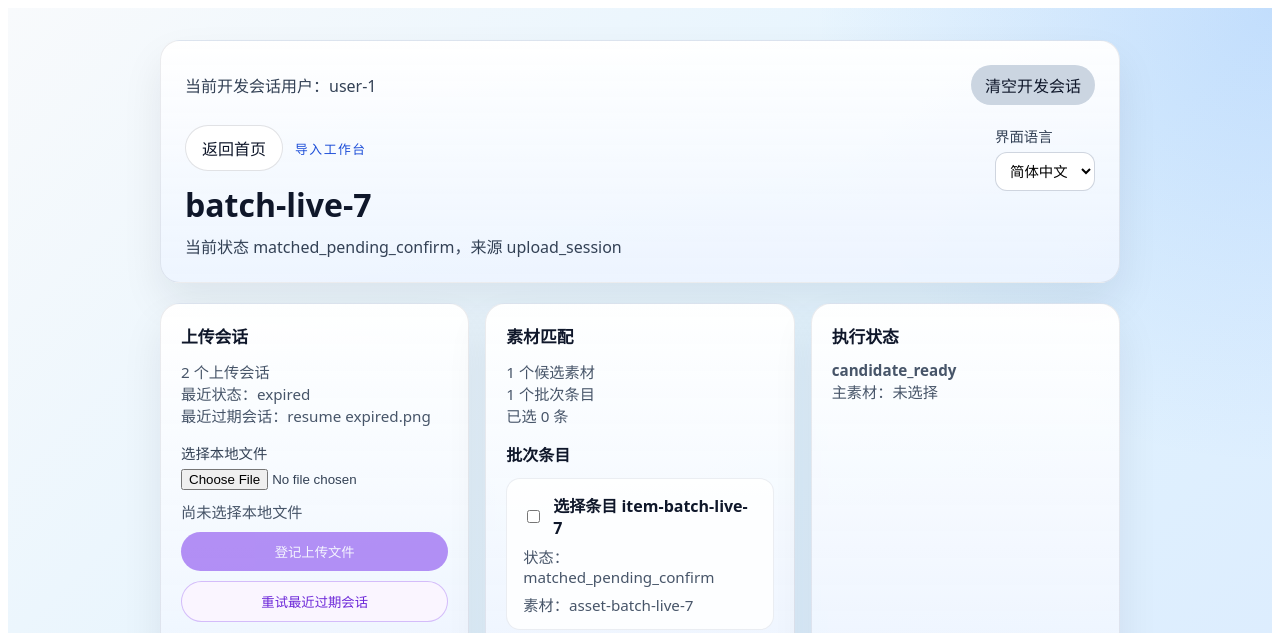
Test: App › retries the latest expired upload session and refreshes the import workbench
The width and height of the screenshot is (1280, 633).
Expected: the heading "batch-live-7" is shown, [185,183,372,226]
Click the button "重试最近过期会话": [315, 602] box [181,581,448,622]
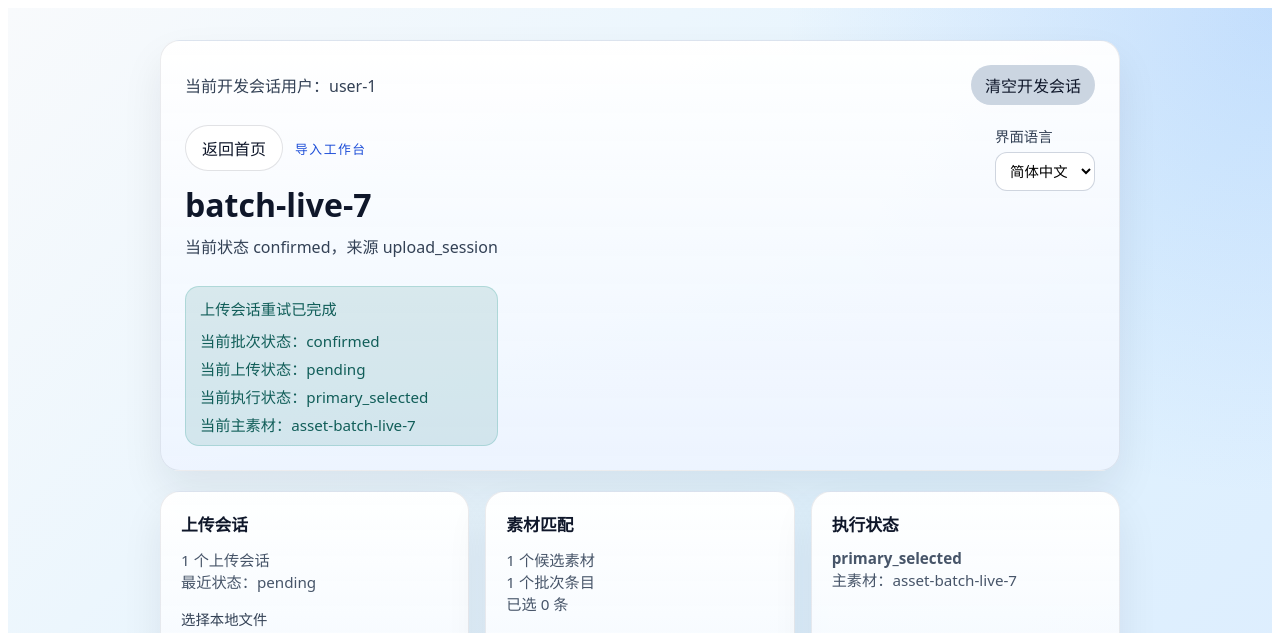
Expected: the text "上传会话重试已完成" is shown, [200,299,337,319]
Expected: the text "当前上传状态：pending" is shown, [200,359,366,379]
